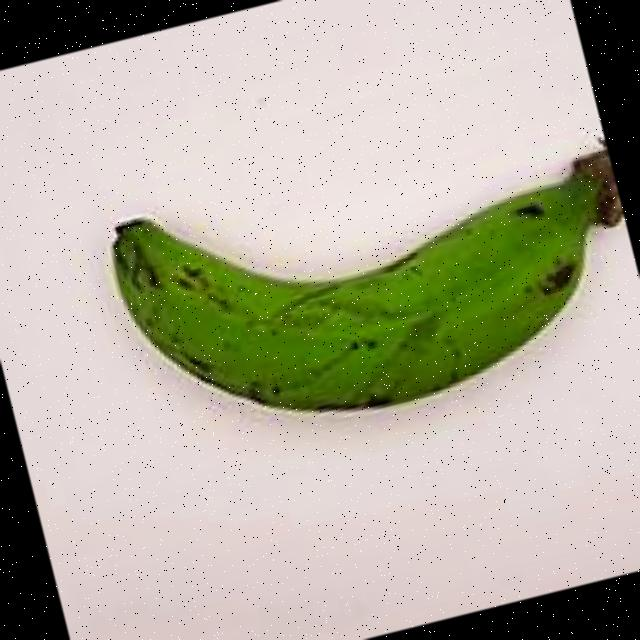Raw: (69, 80, 640, 495)
